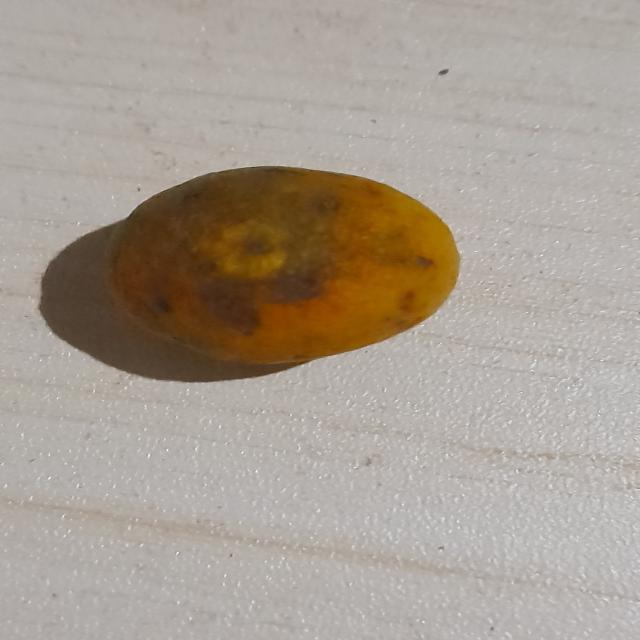black spot: (102, 160, 470, 374)
